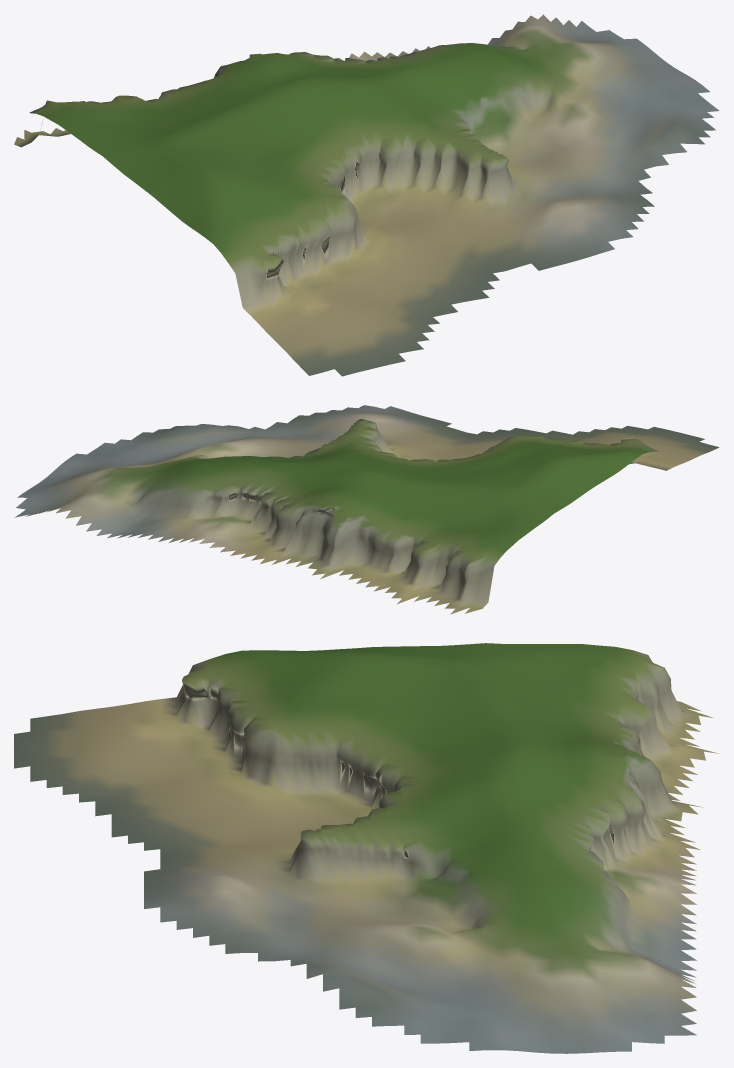
File: coast_tile_x2z2.glb
The picture shows the model from 3 angles, top to bottom: view 1: azimuth 30°, elevation 25°; view 2: azimuth 150°, elevation 25°; view 3: azimuth 270°, elevation 25°; orthographic projection. The views are drawn at different scales.
Visible parts, largest first — view 1: coast_tile_x2z2; view 2: coast_tile_x2z2; view 3: coast_tile_x2z2.
Boxes of the visible parts, <box> form: coast_tile_x2z2: <box>14,14,719,376</box>; coast_tile_x2z2: <box>14,405,719,614</box>; coast_tile_x2z2: <box>14,643,718,1053</box>.
Size of the model in its own units: 282 by 41.59 by 260.
